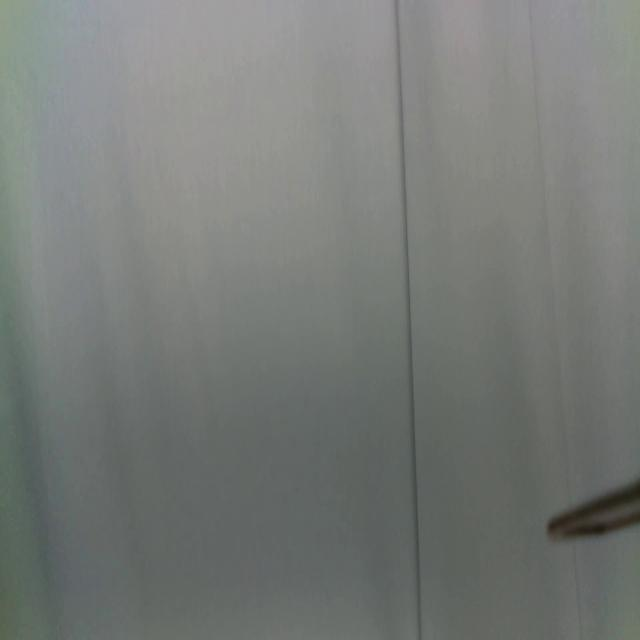crease: (527, 0, 569, 504), (395, 0, 424, 640), (572, 546, 584, 640)
